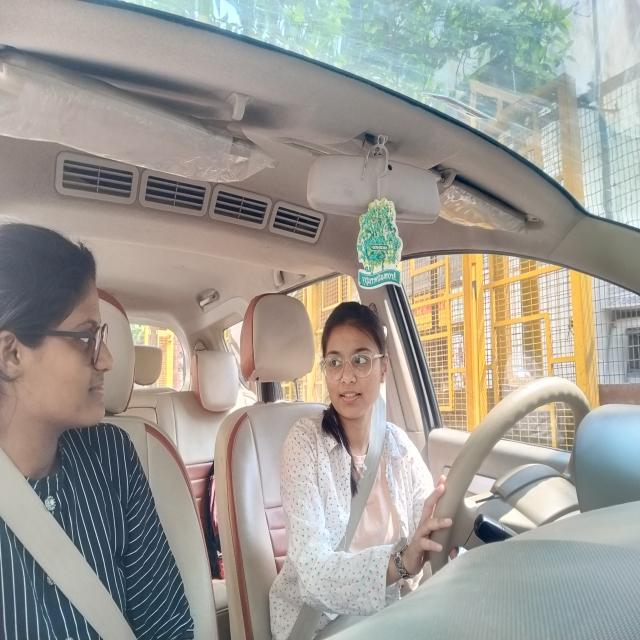LeftRight: (311, 306, 388, 424)
person: (1, 224, 122, 438)
talking: (336, 388, 371, 407)
